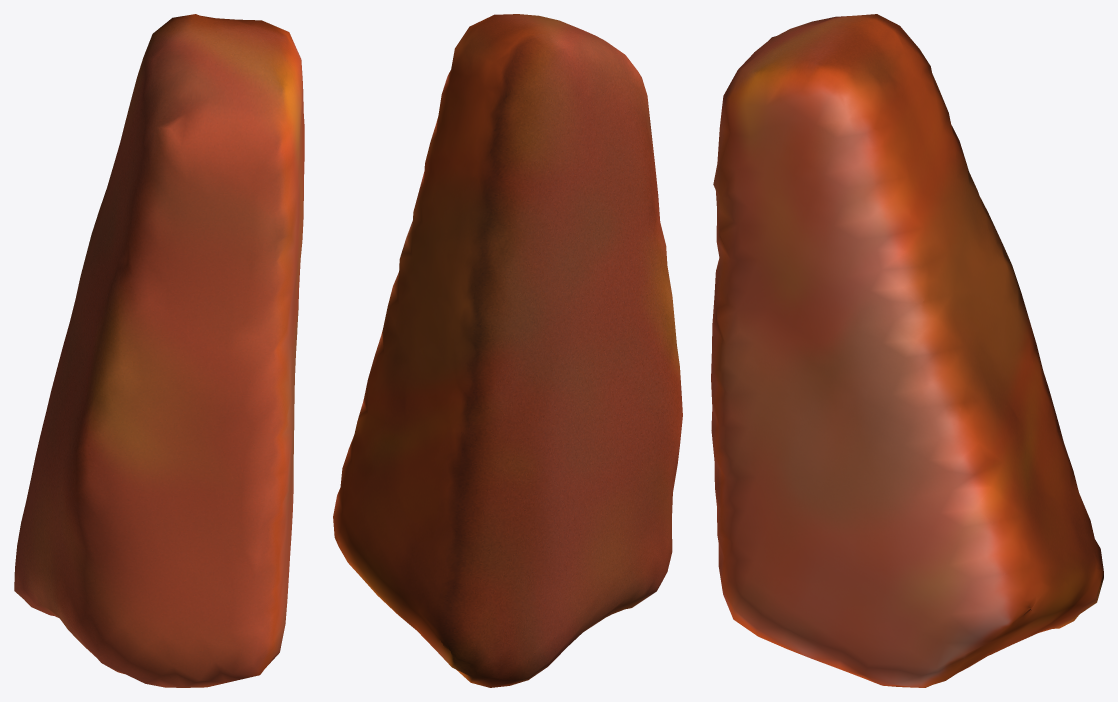
The model's file is carrot_piece.glb.
The picture shows the model from 3 angles, left to right: view 1: azimuth 30°, elevation 25°; view 2: azimuth 150°, elevation 25°; view 3: azimuth 270°, elevation 25°; orthographic projection. The views are drawn at different scales.
Visible parts, largest first — view 1: ok胡蘿蔔low; view 2: ok胡蘿蔔low; view 3: ok胡蘿蔔low.
Part boxes in pixels (x1=…): ok胡蘿蔔low: x1=14, y1=14, x2=304, y2=687; ok胡蘿蔔low: x1=333, y1=14, x2=682, y2=687; ok胡蘿蔔low: x1=711, y1=14, x2=1103, y2=687.
Size of the model in its own units: 0.8372 by 1.78 by 1.
1 material, 1 textured.
